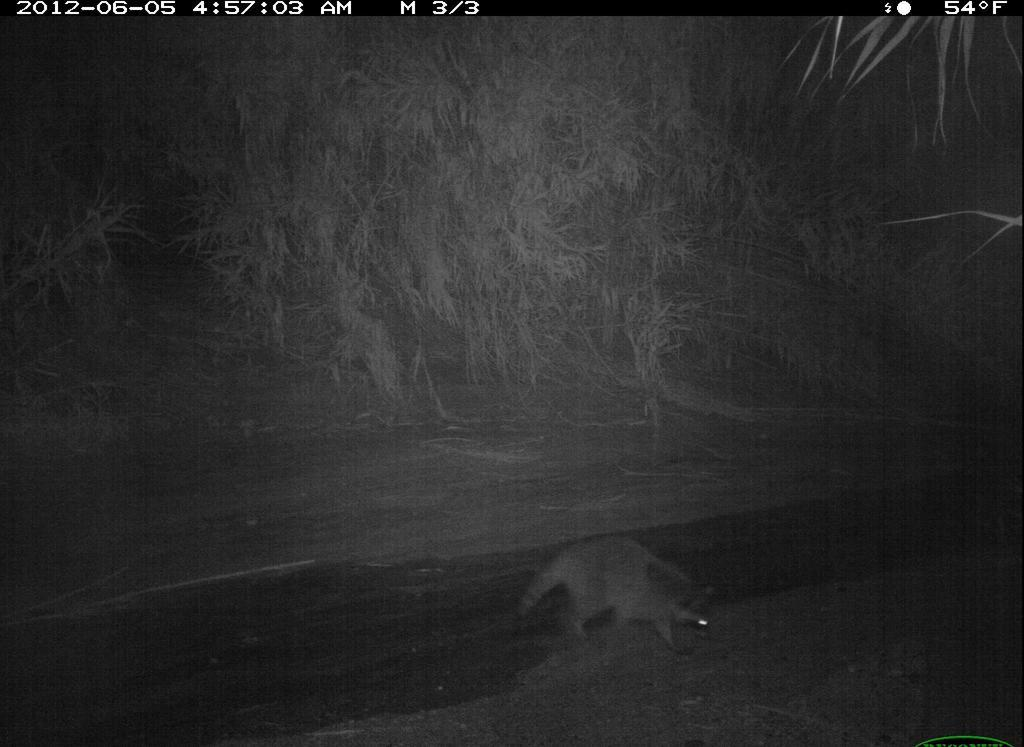raccoon: (510, 524, 724, 651)
